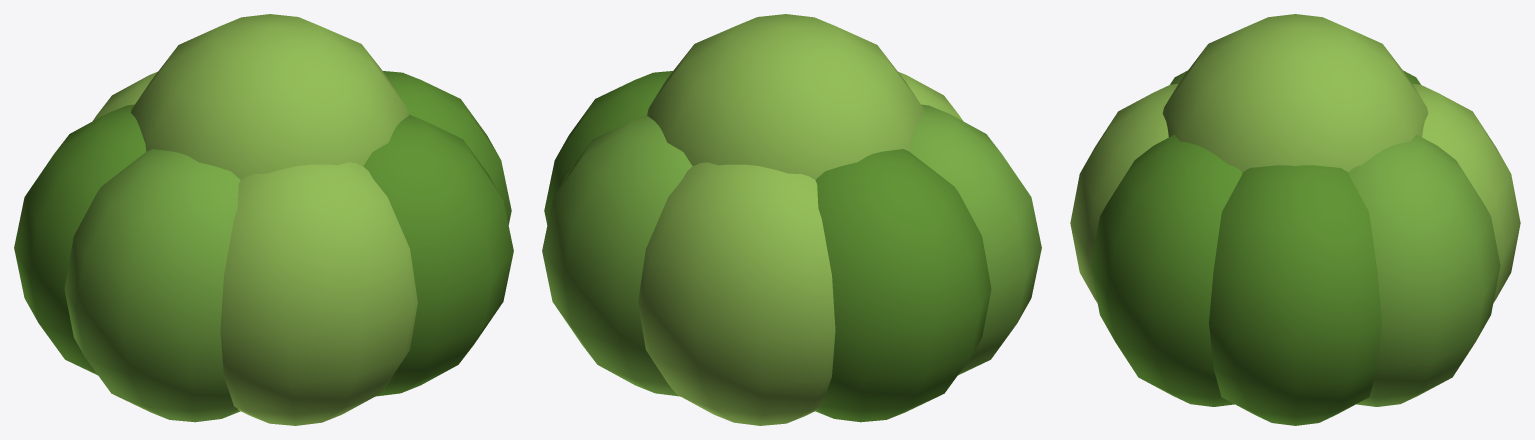
File: foliage_shrub.glb
The picture shows the model from 3 angles, left to right: view 1: azimuth 30°, elevation 25°; view 2: azimuth 150°, elevation 25°; view 3: azimuth 270°, elevation 25°; orthographic projection. The views are drawn at different scales.
Parts seen in each view (by area): view 1: foliage_shrub; view 2: foliage_shrub; view 3: foliage_shrub.
Part boxes in pixels (x1,y1,x2,y2): foliage_shrub: (14, 14, 513, 425); foliage_shrub: (542, 14, 1041, 425); foliage_shrub: (1070, 14, 1520, 425).
Size of the model in its own units: 1.06 by 0.78 by 0.949.
